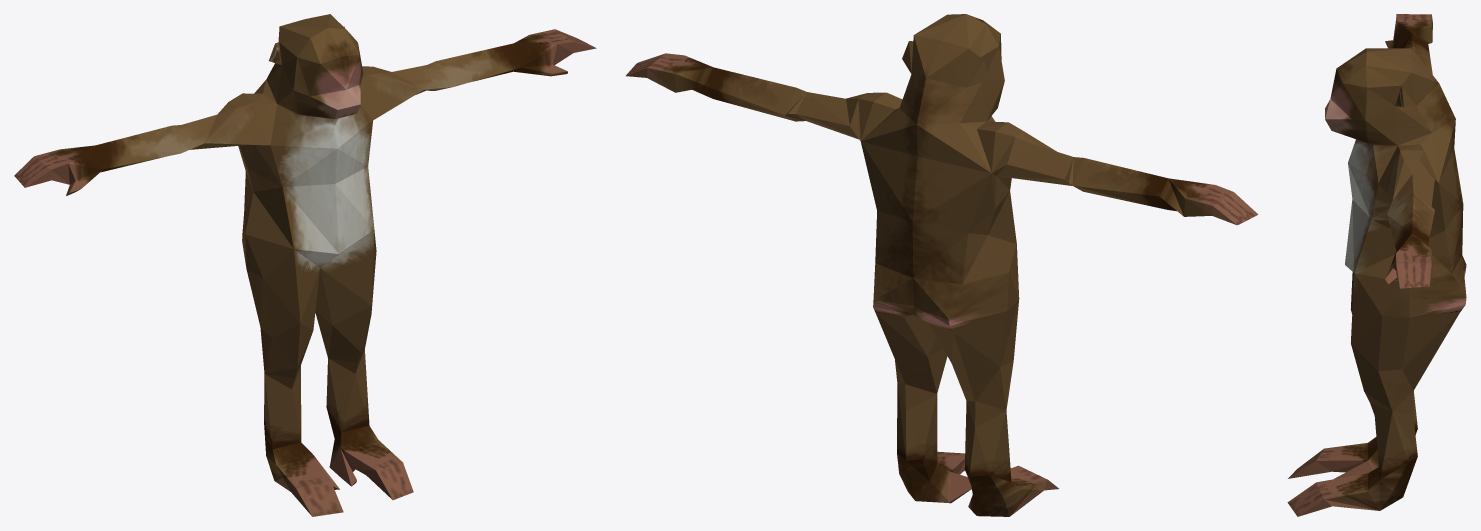
The model's file is monkey.fbx.
3 views of the same model, side by side, from view 1: azimuth 30°, elevation 25°; view 2: azimuth 150°, elevation 25°; view 3: azimuth 270°, elevation 25° (orthographic). The views are drawn at different scales.
Visible parts, largest first — view 1: Division_0_0; view 2: Division_0_0; view 3: Division_0_0.
Part boxes in pixels (<box>): Division_0_0: <box>14,14,596,516</box>; Division_0_0: <box>626,14,1258,516</box>; Division_0_0: <box>1287,14,1466,516</box>.
Size of the model in its own units: 2278 by 1726 by 631.
